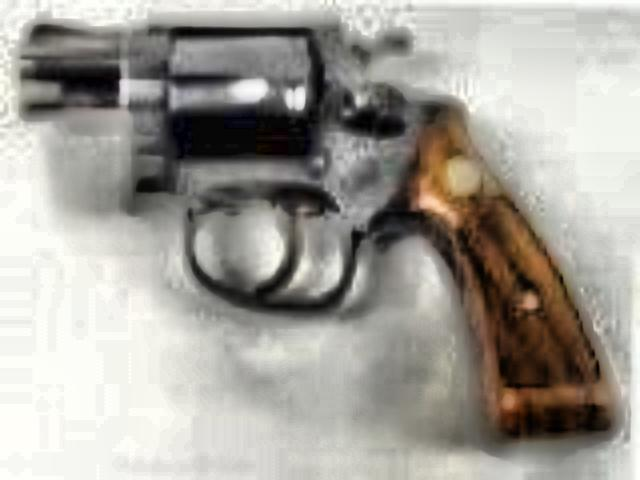pistol: (16, 12, 604, 436)
